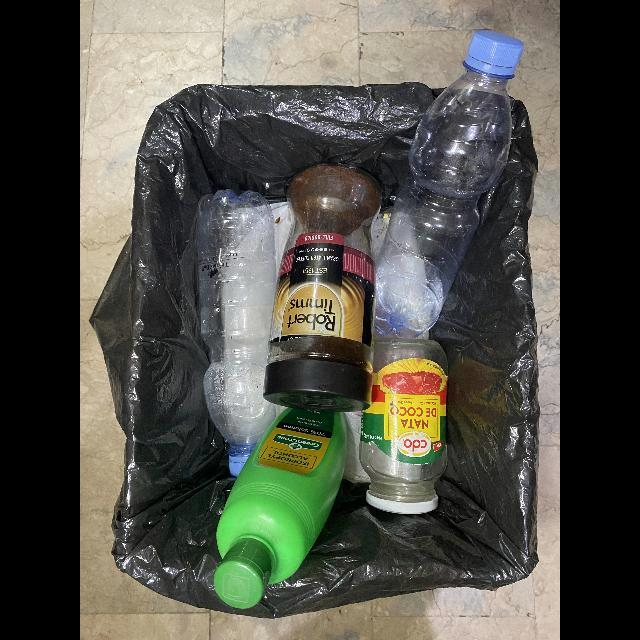glass_bottle: (263, 164, 383, 414), (359, 334, 448, 514)
plastic_bottle: (374, 31, 524, 340), (213, 407, 348, 610), (193, 190, 282, 479)
